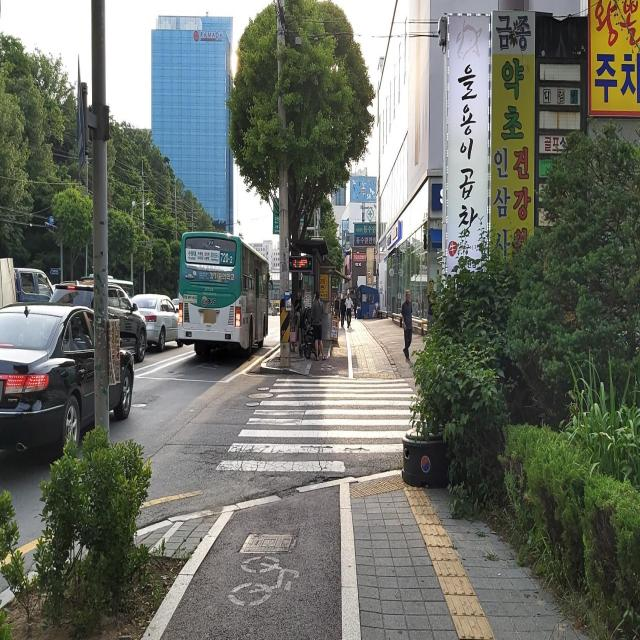횡단보도: (216, 378, 439, 475)
